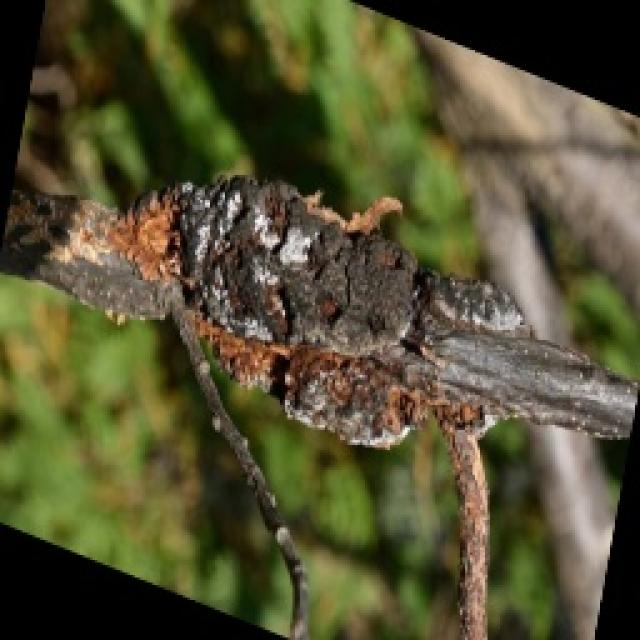Black_knot: (0, 138, 610, 482)
